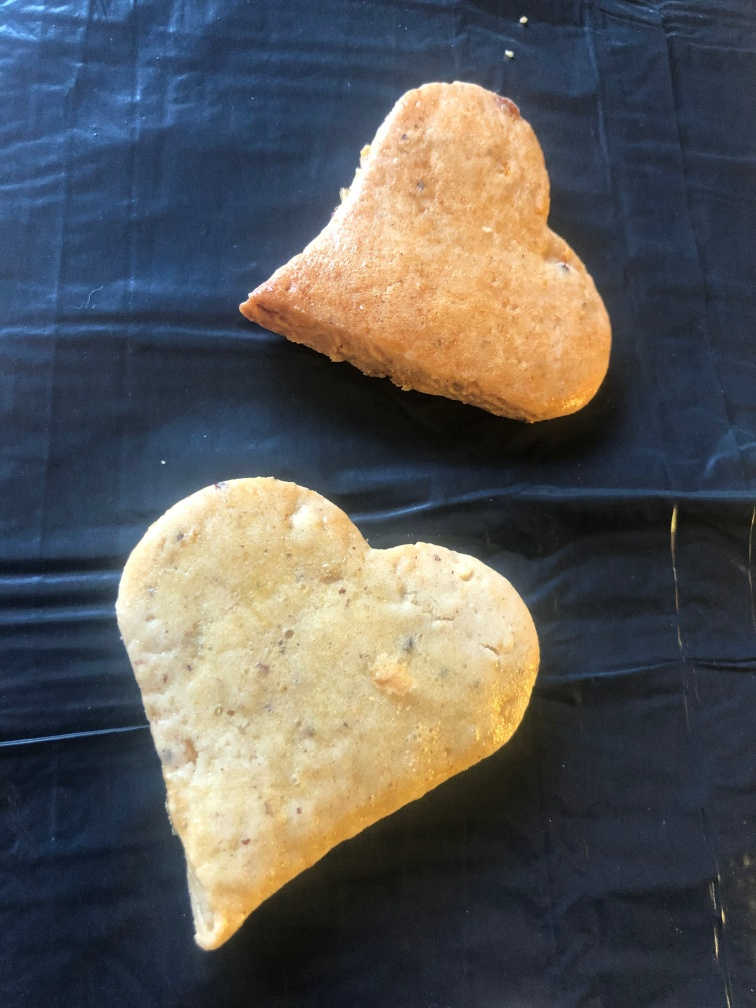heart: (110, 467, 549, 961), (234, 73, 620, 430)
